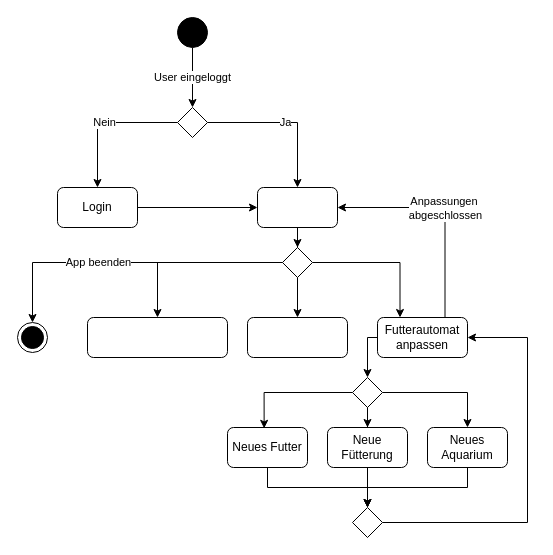
This 553x555 diagram has some shape labels left out. Each missing label, with the centre of its shape:
"Futterautomaten löschen" belongs at (297,337).
"Home" belongs at (297,207).
"Neuen Futterautomaten erstellen" belongs at (157,337).
